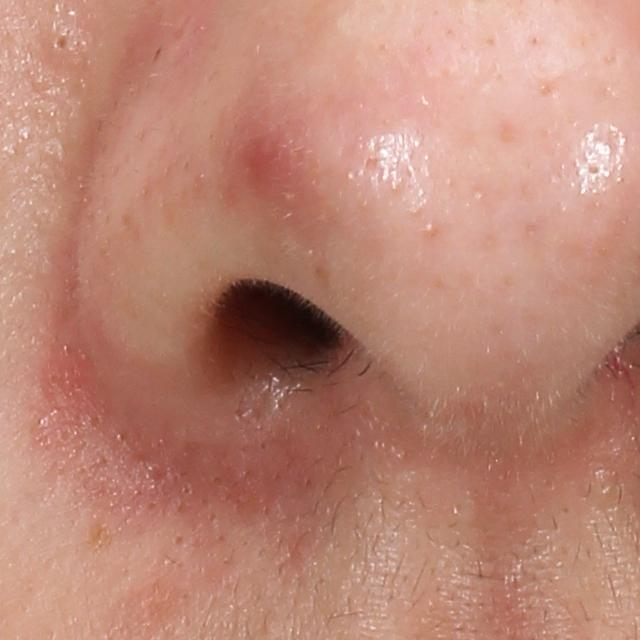comedo: (39, 19, 84, 68), (422, 219, 440, 238)
